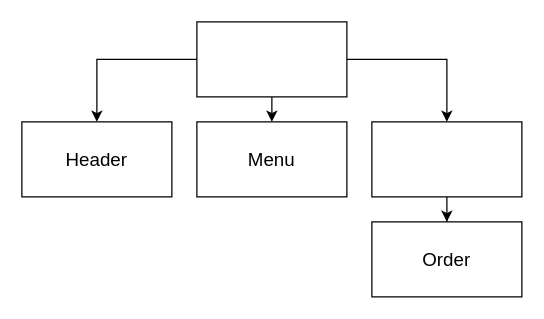
Some shapes in this 544 by 319 pixel diagram are drawn without their labels. The shapes that lost their labels are listed below. From the top down, each one's centre as x and y in pixels, then its label:
point 271,59: App
point 446,159: Footer
